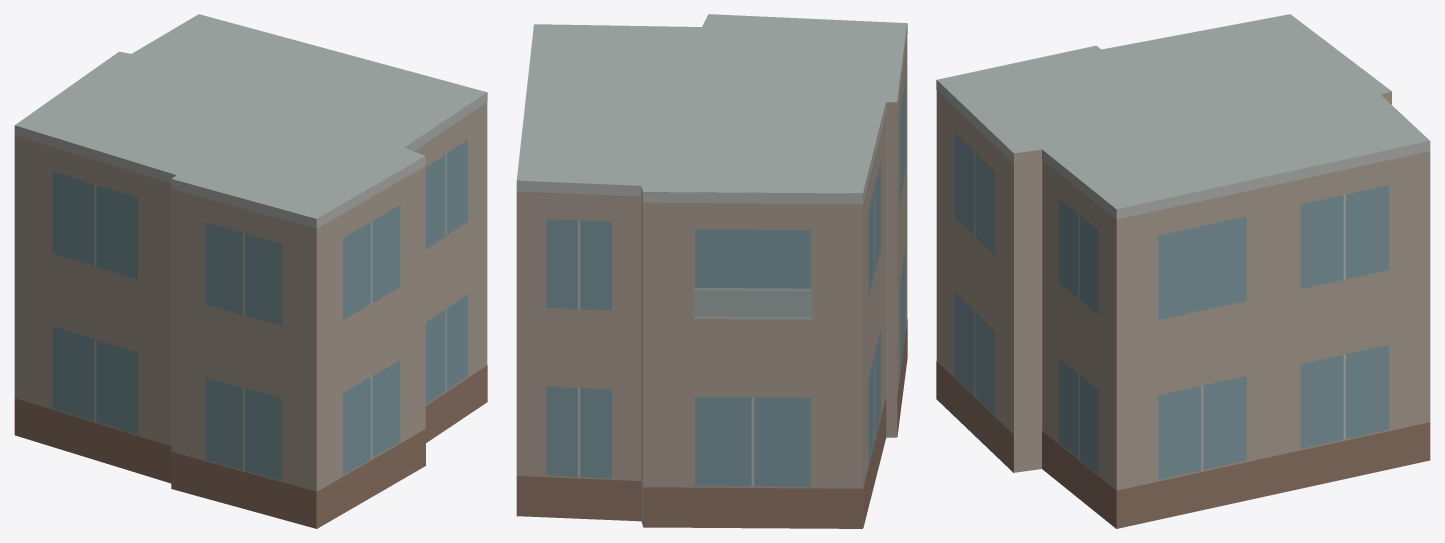
Rendered from survey-upis-32971163.glb.
3 renders of one model, left to right at view 1: azimuth 30°, elevation 25°; view 2: azimuth 150°, elevation 25°; view 3: azimuth 270°, elevation 25°, orthographic. The views are drawn at different scales.
Visible parts, largest first — view 1: survey-upis-32971163.tmp; view 2: survey-upis-32971163.tmp; view 3: survey-upis-32971163.tmp.
Part boxes in pixels (x1=…): survey-upis-32971163.tmp: x1=14, y1=14, x2=487, y2=528; survey-upis-32971163.tmp: x1=516, y1=14, x2=907, y2=528; survey-upis-32971163.tmp: x1=936, y1=14, x2=1430, y2=528.
Size of the model in its own units: 9.98 by 7.6 by 10.65.
